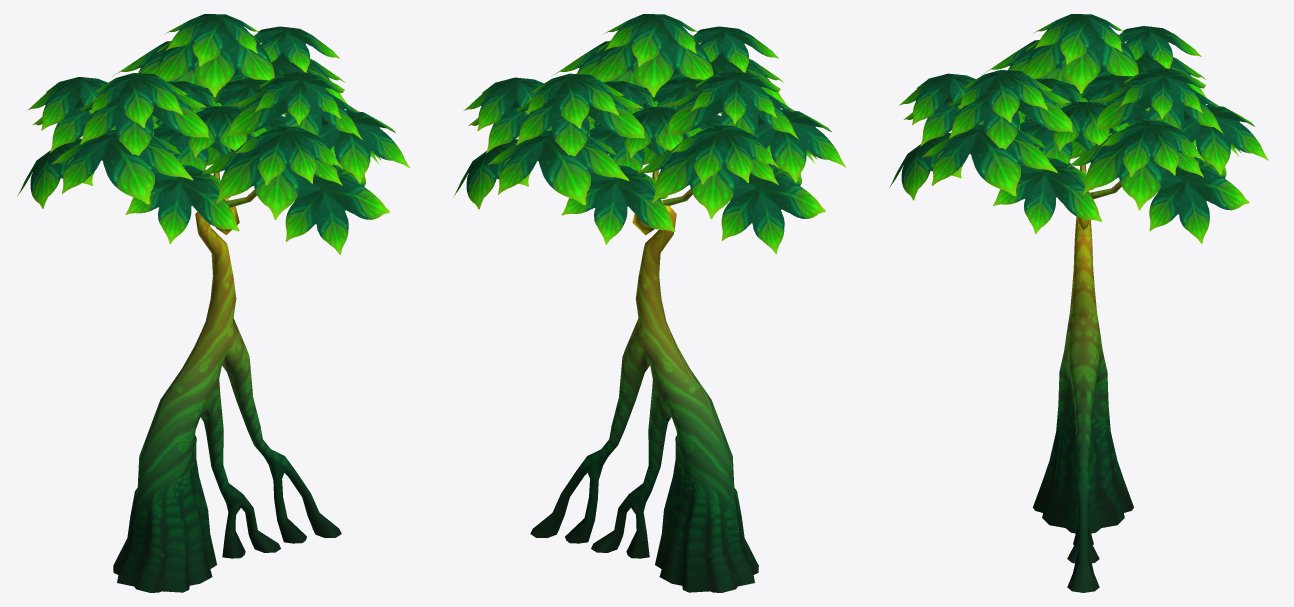
The model's file is Green_Tree_02c.FBX.
The picture shows the model from 3 angles, left to right: view 1: azimuth 30°, elevation 25°; view 2: azimuth 150°, elevation 25°; view 3: azimuth 270°, elevation 25°; orthographic projection. The views are drawn at different scales.
Parts seen in each view (by area): view 1: Green_Tree_02c; view 2: Green_Tree_02c; view 3: Green_Tree_02c.
Part boxes in pixels (left/top/right/bottom): Green_Tree_02c: left=17, top=14, right=410, bottom=592; Green_Tree_02c: left=454, top=14, right=846, bottom=592; Green_Tree_02c: left=889, top=14, right=1268, bottom=592.
Size of the model in its own units: 174 by 247 by 183.
